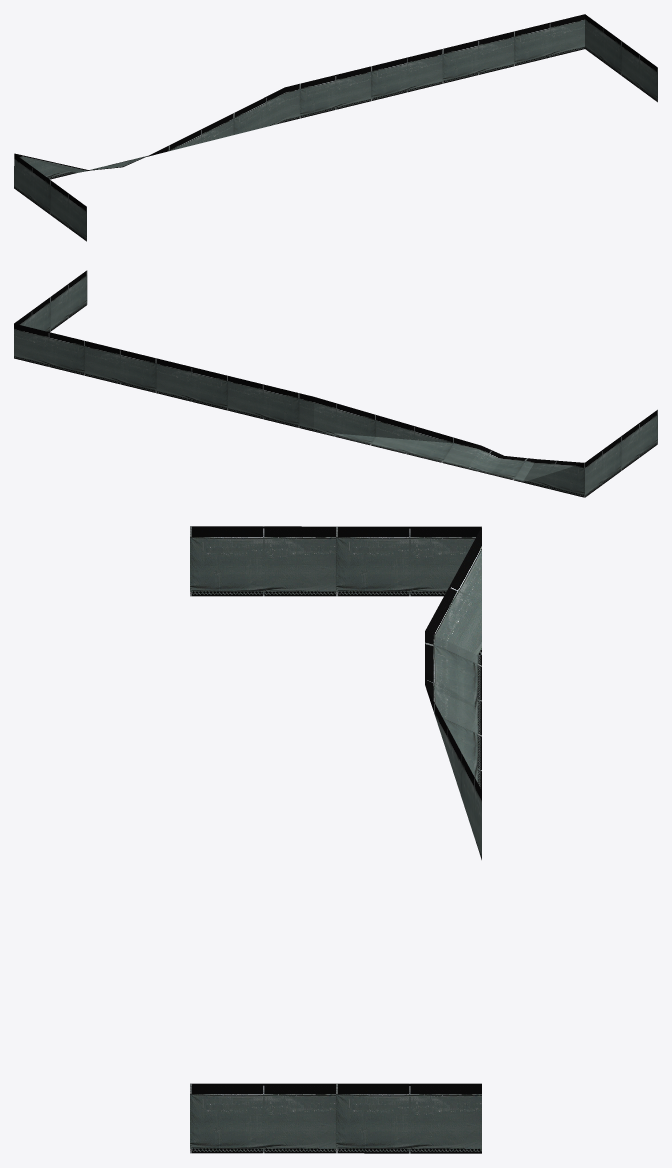
File: shitfence2_sfs.obj
The picture shows the model from 3 angles, top to bottom: view 1: azimuth 30°, elevation 25°; view 2: azimuth 150°, elevation 25°; view 3: azimuth 270°, elevation 25°; orthographic projection. The views are drawn at different scales.
Visible parts, largest first — view 1: shitfence2_SFS; view 2: shitfence2_SFS; view 3: shitfence2_SFS.
Part boxes in pixels (x1,y1,x2,y2): shitfence2_SFS: (14,14,657,241); shitfence2_SFS: (14,270,657,497); shitfence2_SFS: (190,526,481,1153).
Size of the model in its own units: 37.73 by 2.21 by 8.36.
1 material, 1 textured.
